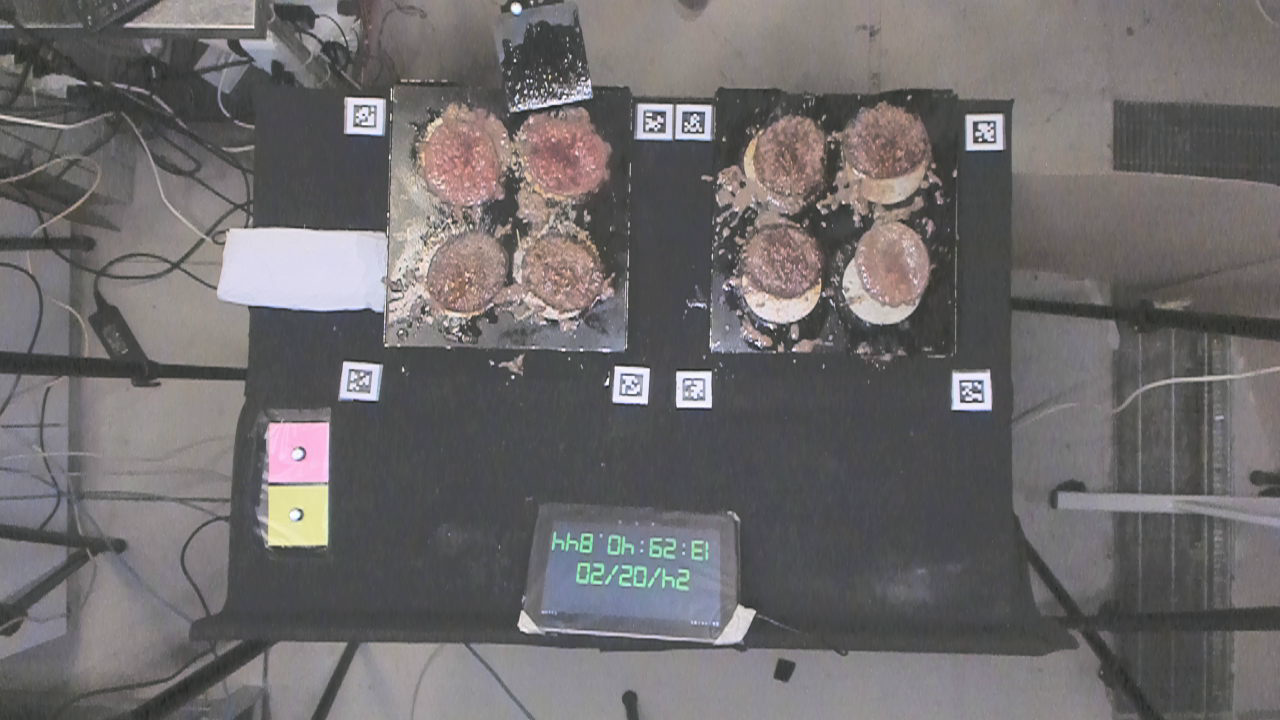hamburger: (731, 216, 826, 300), (418, 111, 498, 204), (521, 233, 614, 311), (522, 122, 612, 202), (425, 232, 508, 316), (851, 224, 928, 313), (842, 98, 928, 177), (748, 115, 824, 199)
marker: (265, 418, 333, 485)
